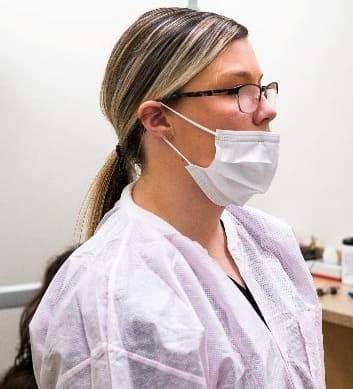with_incorrect_mask: (187, 43, 281, 207)
